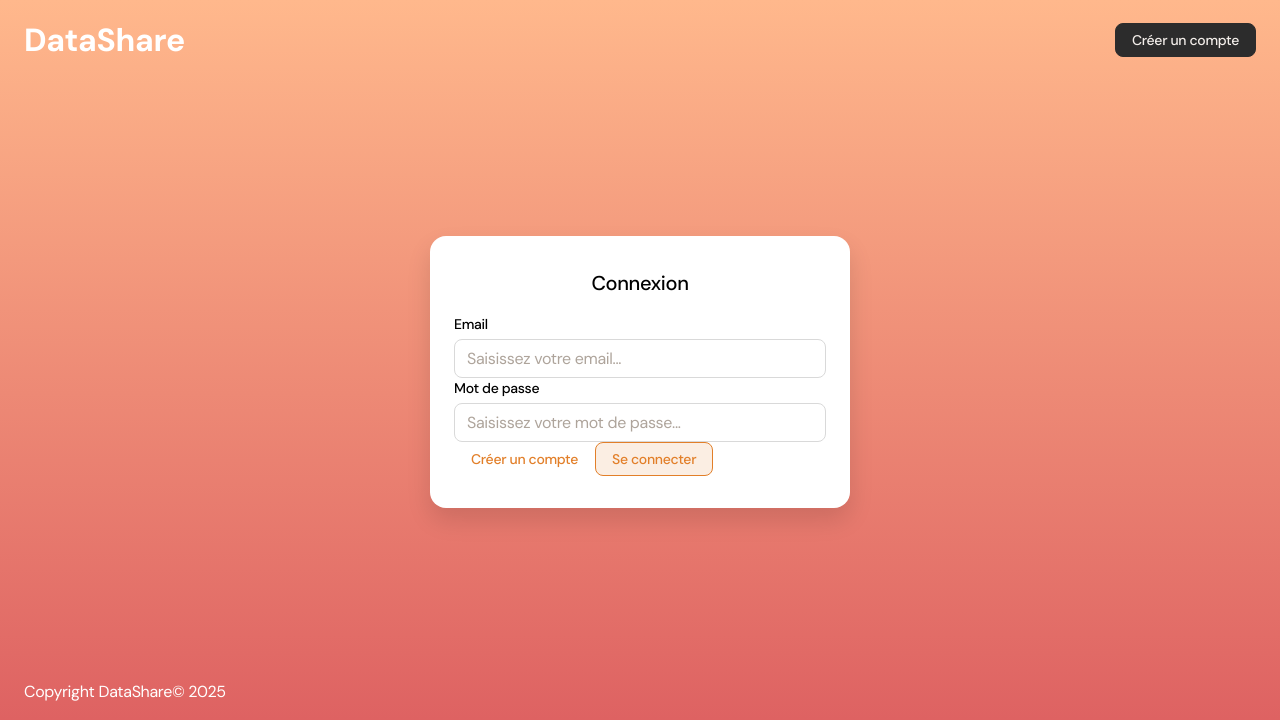
LoginPage › affiche les erreurs de validation client et n'appelle pas l'API
This screenshot has width=1280, height=720.
Step 1. Click the button "Se connecter" → (654, 459), box [595,442,713,476]
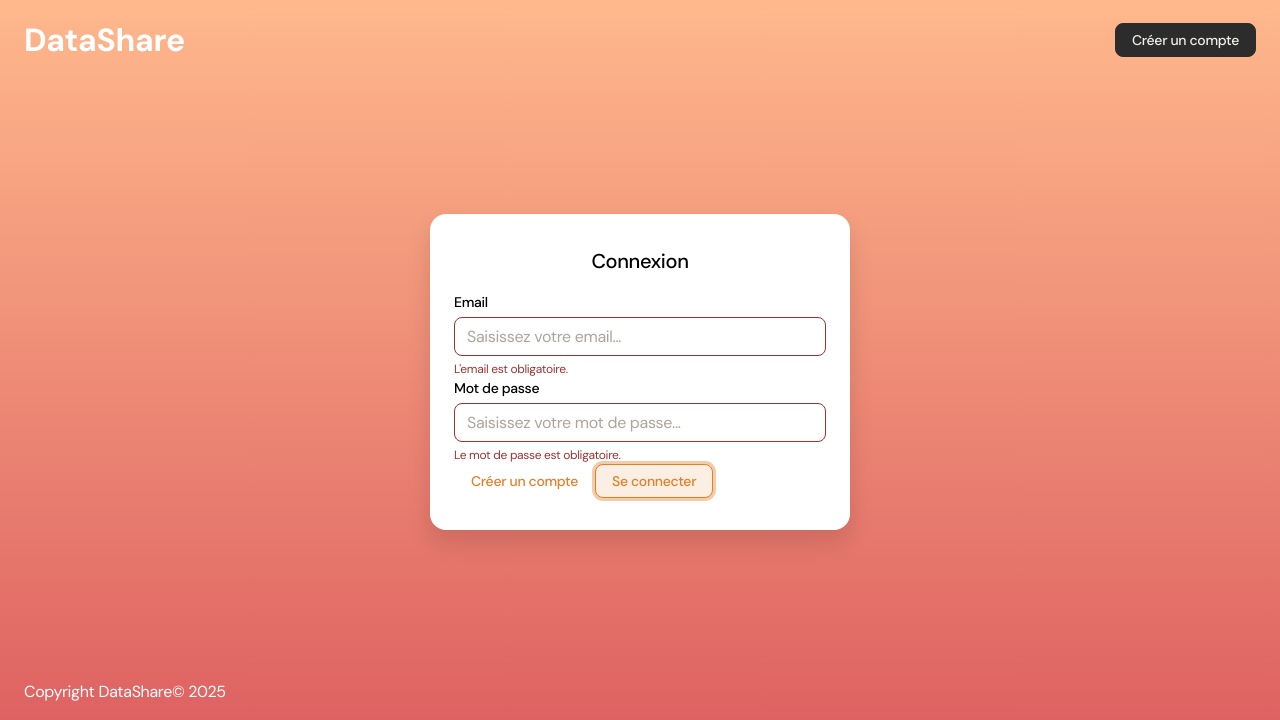
Expected: the text "L'email est obligatoire." is shown, [454,361,568,377]
Expected: the text "Le mot de passe est obligatoire." is shown, [454,447,621,463]
